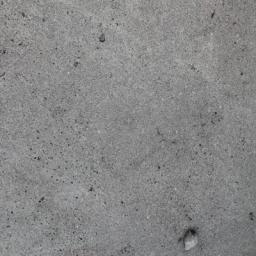FOD: (181, 226, 201, 254)
